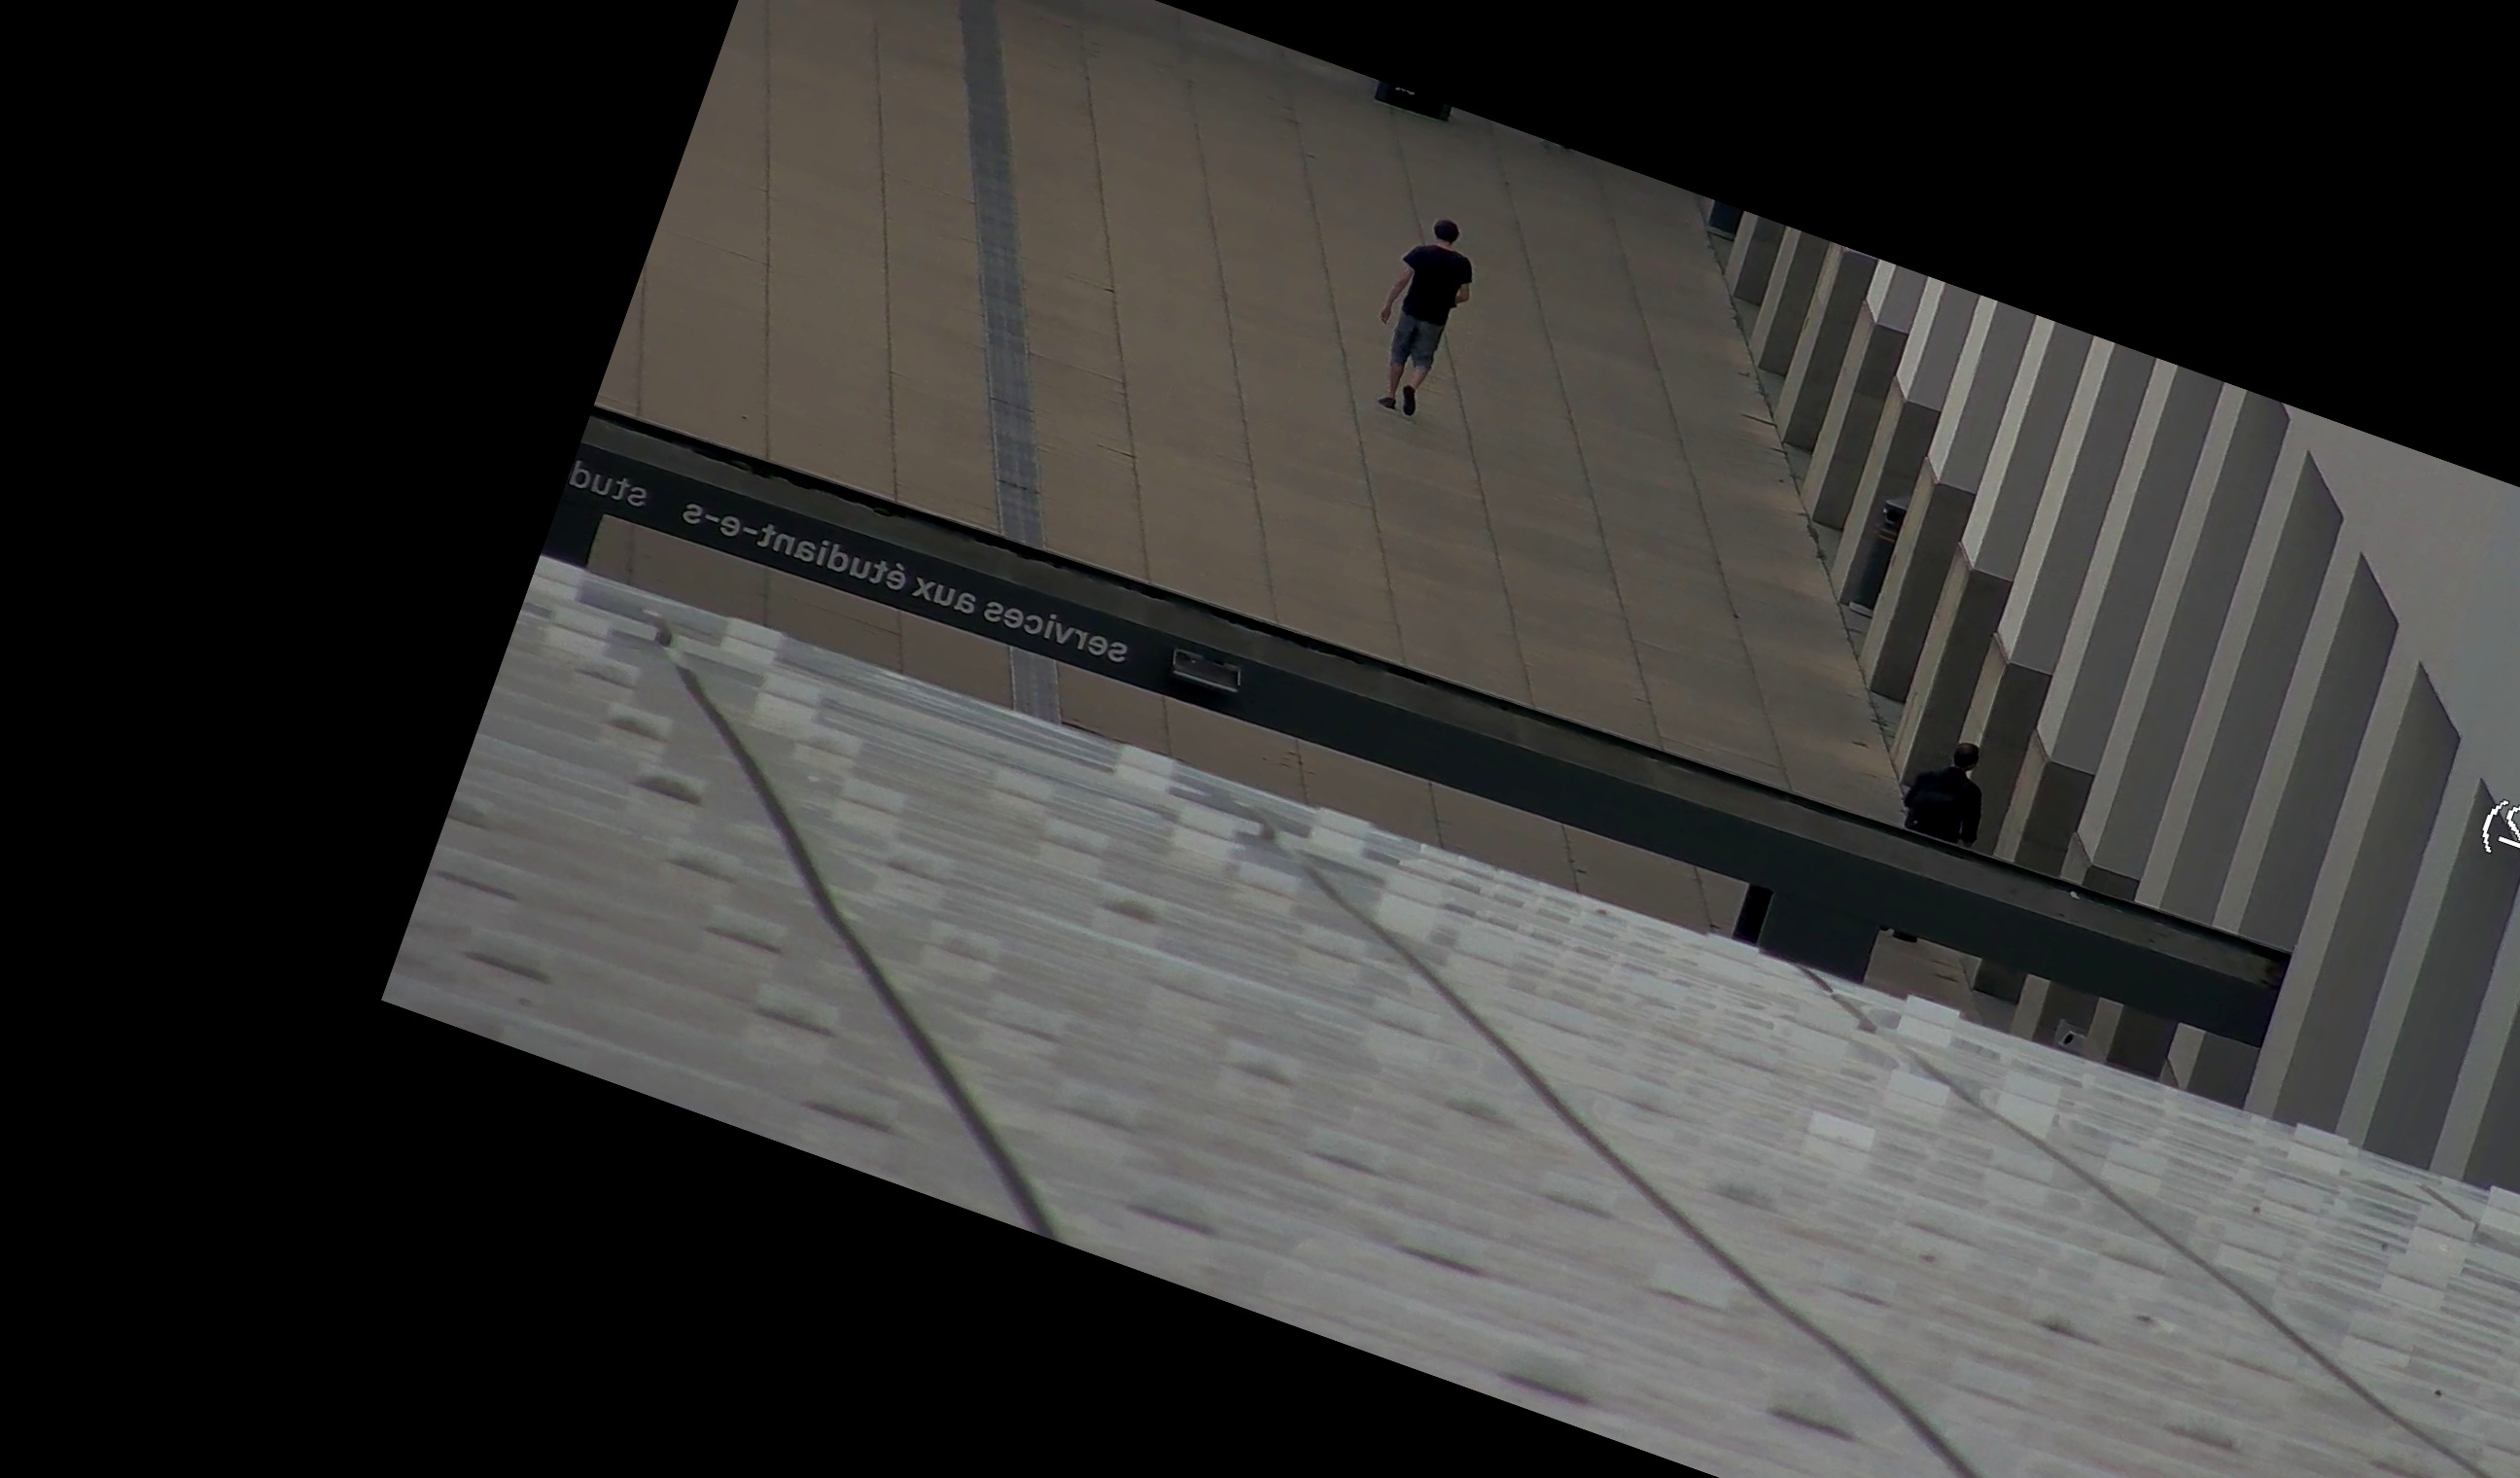Other: (1887, 716, 2024, 869)
